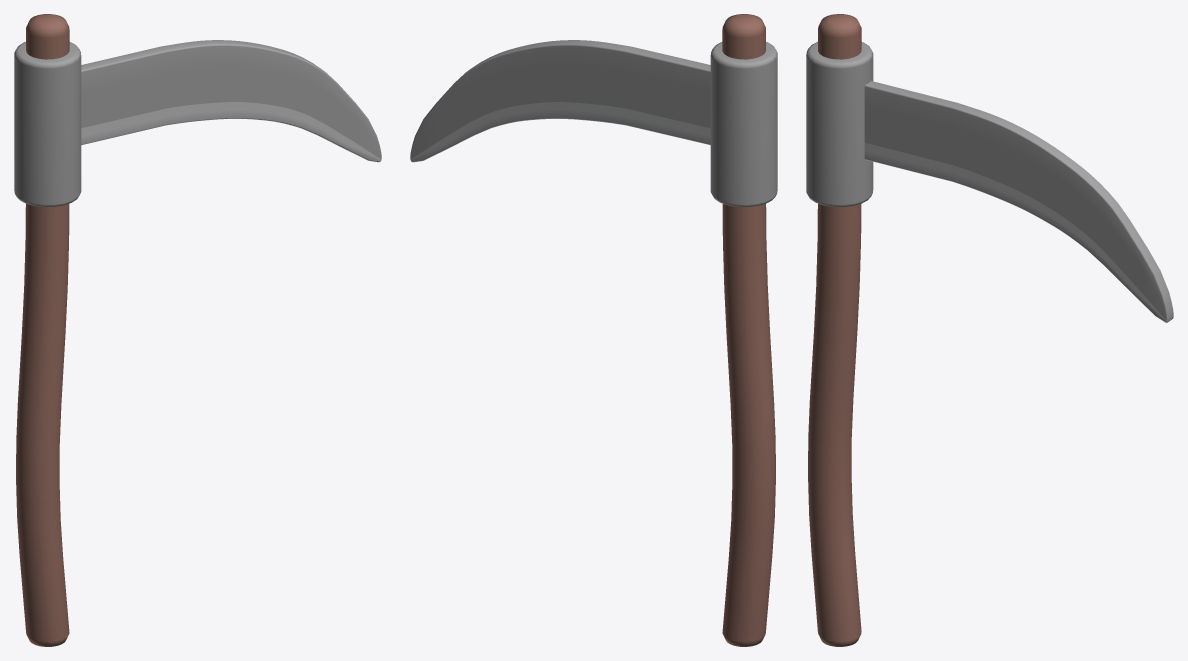
File: Farm_20_Scythe_1.glb
3 views of the same model, side by side, from view 1: azimuth 30°, elevation 25°; view 2: azimuth 150°, elevation 25°; view 3: azimuth 330°, elevation 25° (orthographic).
Parts seen in each view (by area): view 1: Farm_20_Scythe_1; view 2: Farm_20_Scythe_1; view 3: Farm_20_Scythe_1.
Part boxes in pixels (x1,y1,x2,y2): Farm_20_Scythe_1: (14,14,381,646); Farm_20_Scythe_1: (410,14,777,646); Farm_20_Scythe_1: (806,14,1173,646).
Bounding box in the file's own units: 0.9476 × 1.56 × 0.1536.
1 material, 1 textured.
